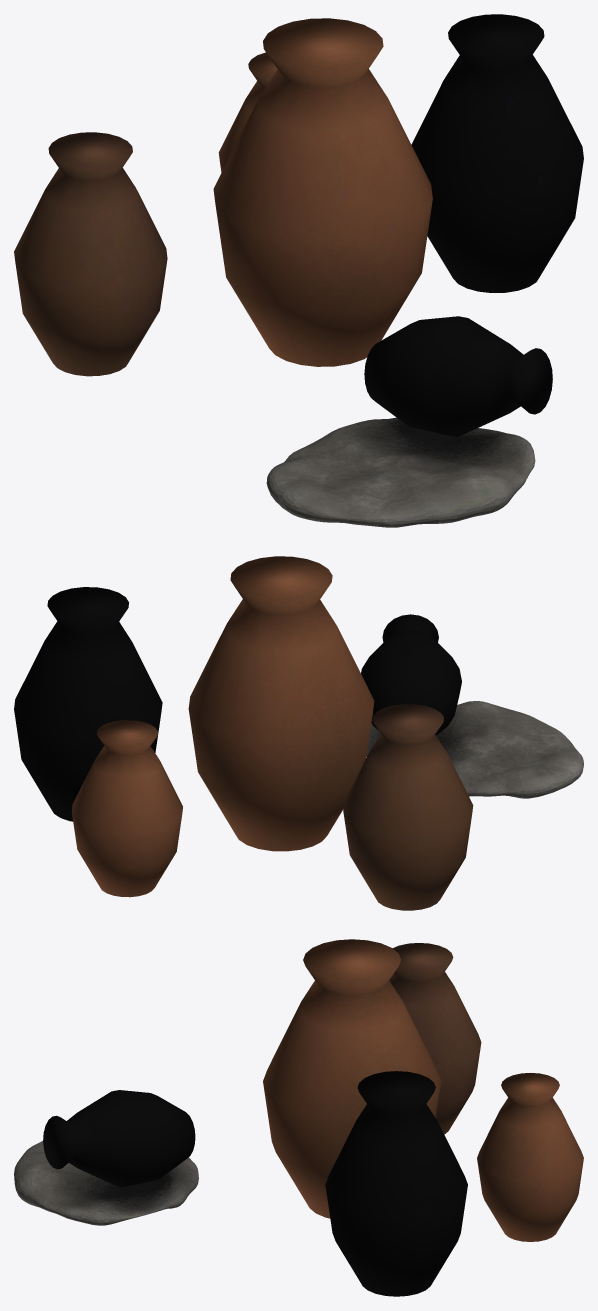
Rendered from dg_urnas.glb.
3 renders of one model, top to bottom at view 1: azimuth 30°, elevation 25°; view 2: azimuth 150°, elevation 25°; view 3: azimuth 270°, elevation 25°, orthographic. The views are drawn at different scales.
Visible parts, largest first — view 1: dg_urnas_tronco; view 2: dg_urnas_tronco; view 3: dg_urnas_tronco.
Part boxes in pixels (x1=…): dg_urnas_tronco: x1=14, y1=14, x2=583, y2=527; dg_urnas_tronco: x1=14, y1=556, x2=583, y2=910; dg_urnas_tronco: x1=14, y1=939, x2=583, y2=1296.
Bounding box in the file's own units: 1.12 × 0.6398 × 1.28.
Materials: 1 (1 with a texture image).
